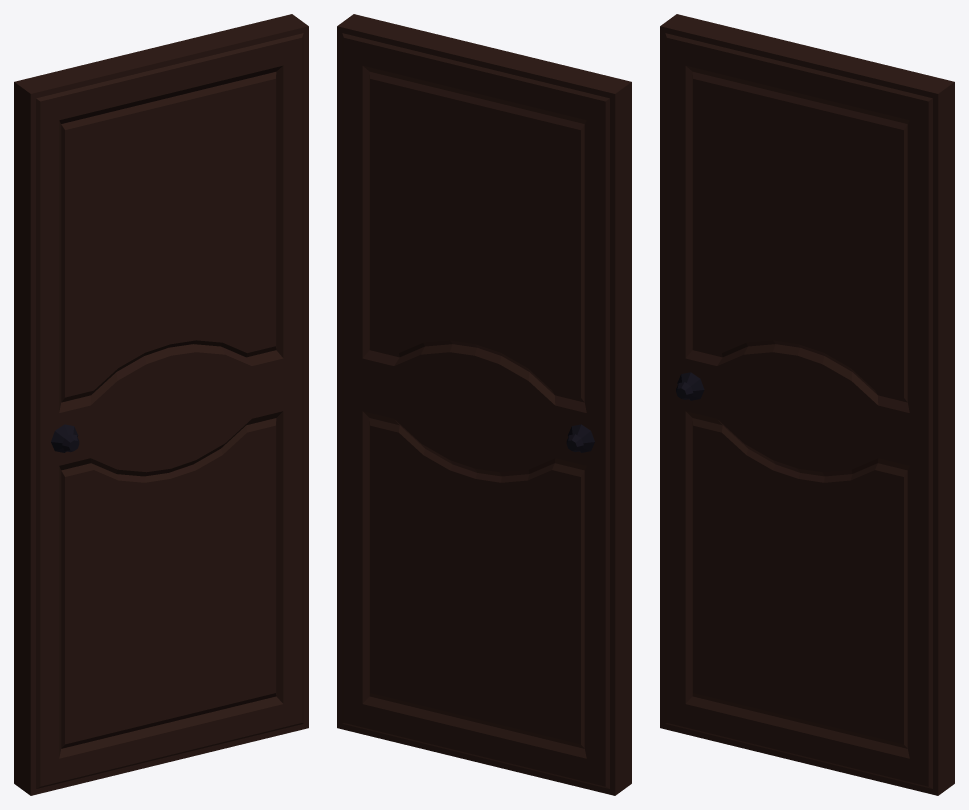
The picture shows the model from 3 angles, left to right: view 1: azimuth 30°, elevation 25°; view 2: azimuth 150°, elevation 25°; view 3: azimuth 330°, elevation 25°; orthographic projection.
Parts seen in each view (by area): view 1: Door_4_Cube.048; view 2: Door_4_Cube.048; view 3: Door_4_Cube.048.
Part boxes in pixels (x1=…): Door_4_Cube.048: x1=14, y1=14, x2=308, y2=795; Door_4_Cube.048: x1=337, y1=14, x2=631, y2=795; Door_4_Cube.048: x1=660, y1=14, x2=954, y2=795.
Size of the model in its own units: 1.74 by 4.2 by 0.4211.
